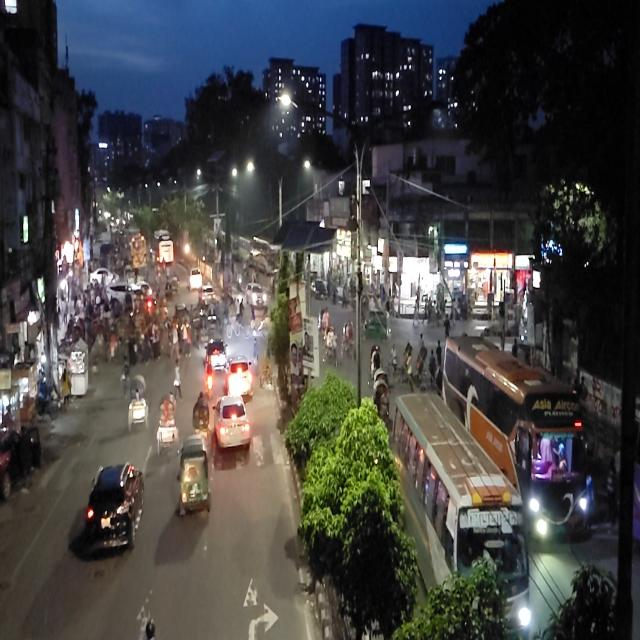black: (83, 457, 147, 556)
